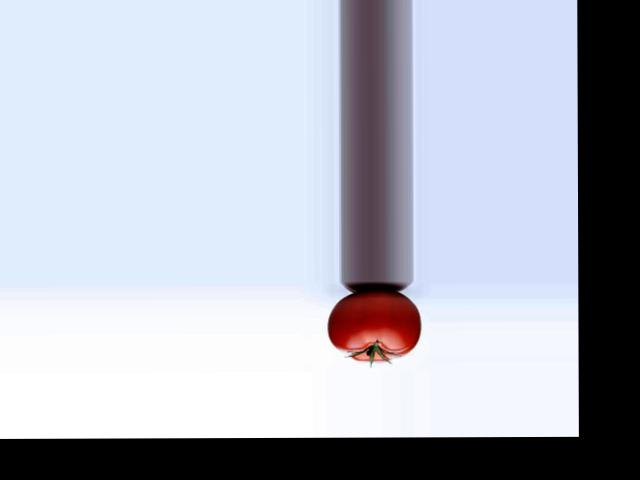tomato: (327, 289, 421, 361)
